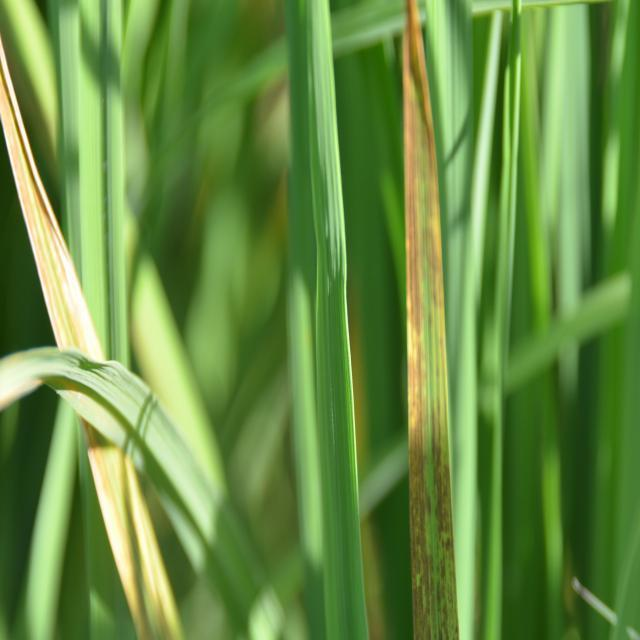Rice Tungro: (400, 49, 462, 629), (6, 115, 87, 340), (85, 444, 171, 630), (89, 439, 165, 617)
